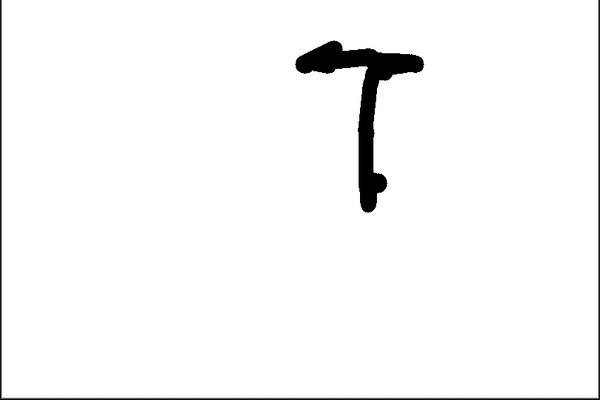T: (288, 34, 426, 212)
